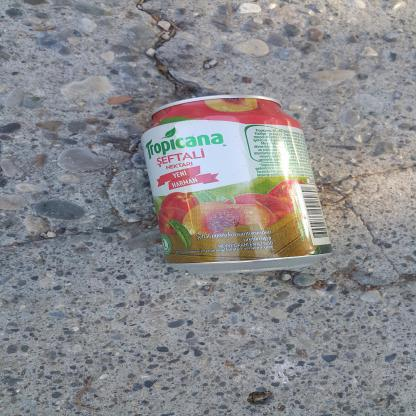metal: (94, 83, 277, 282)
